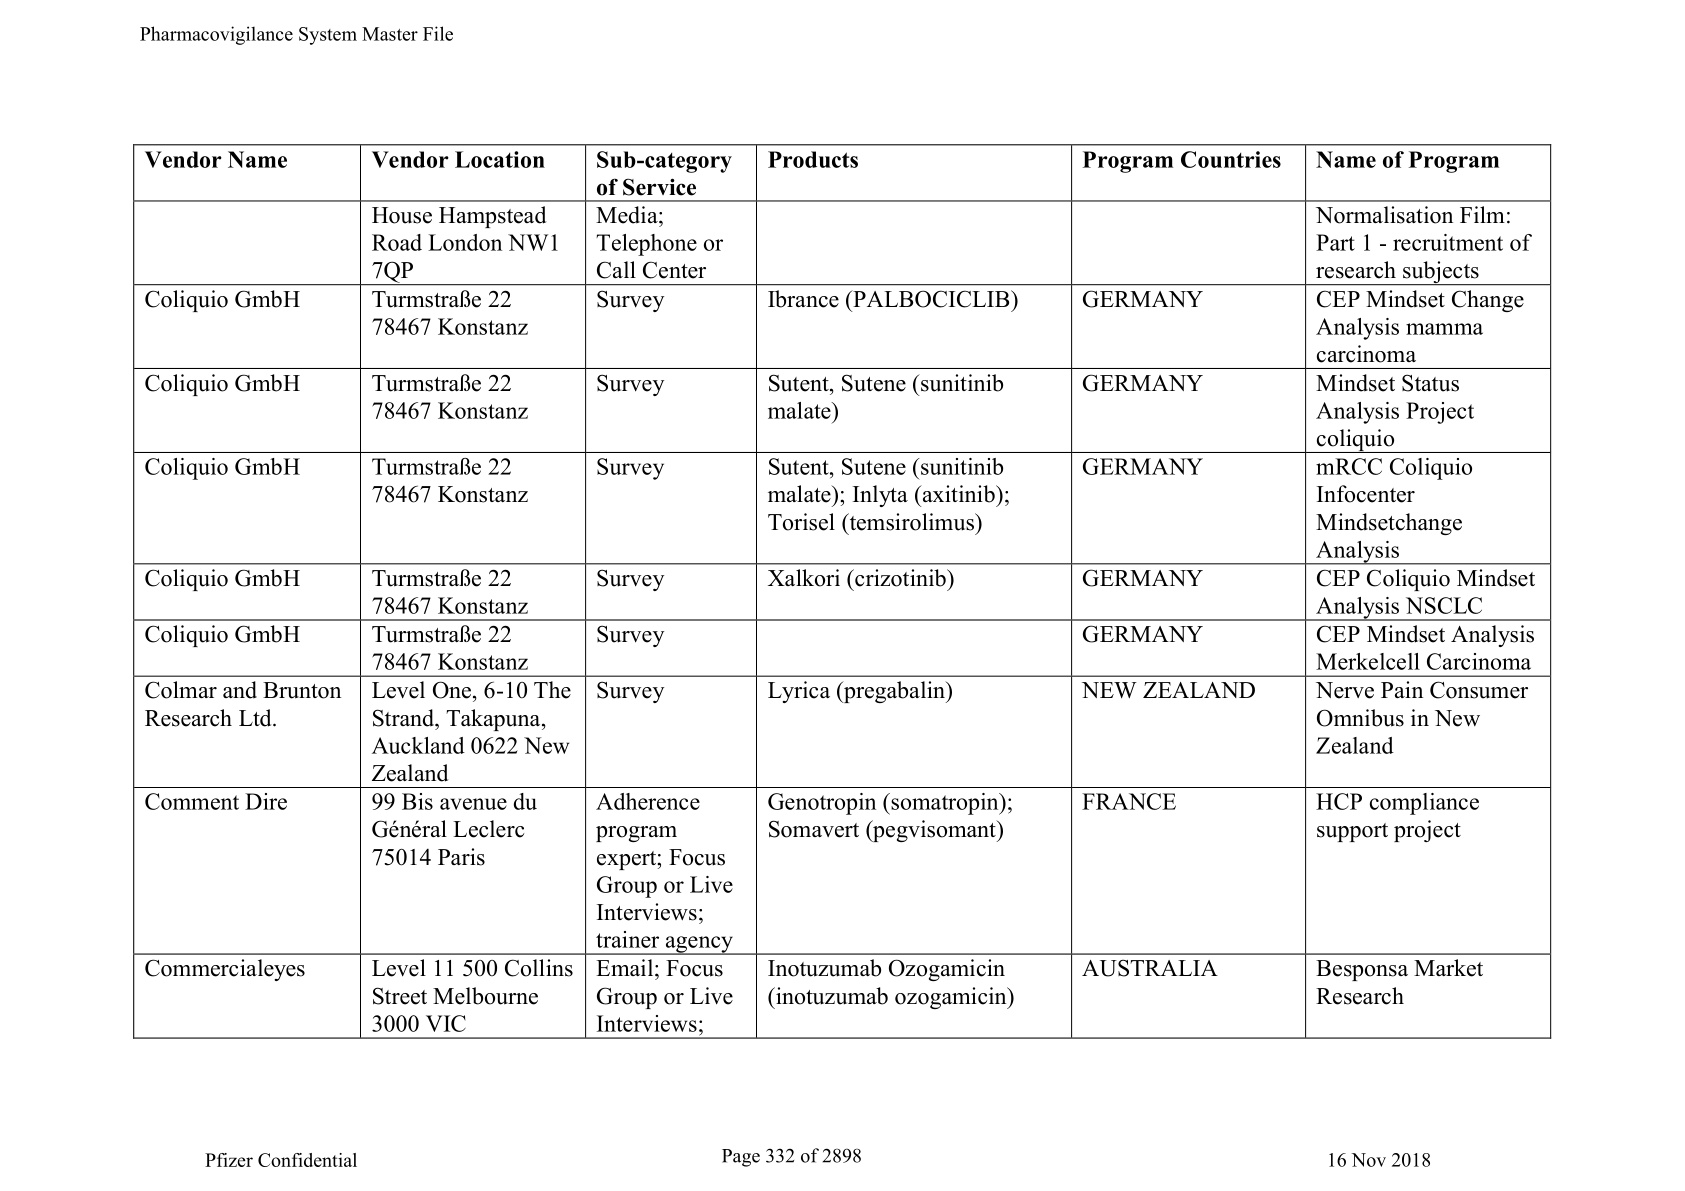full_lined: (131, 144, 1552, 1039)
